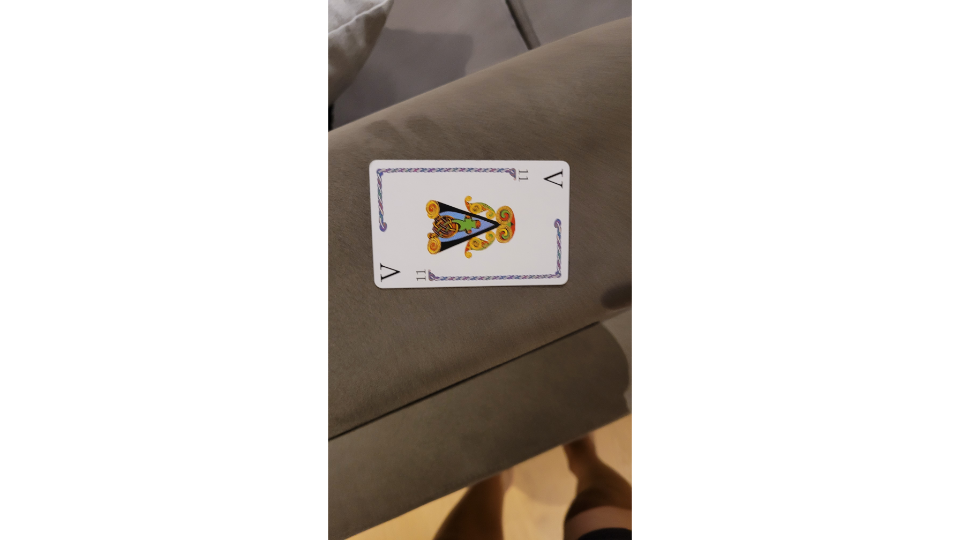V: (364, 151, 575, 294)
